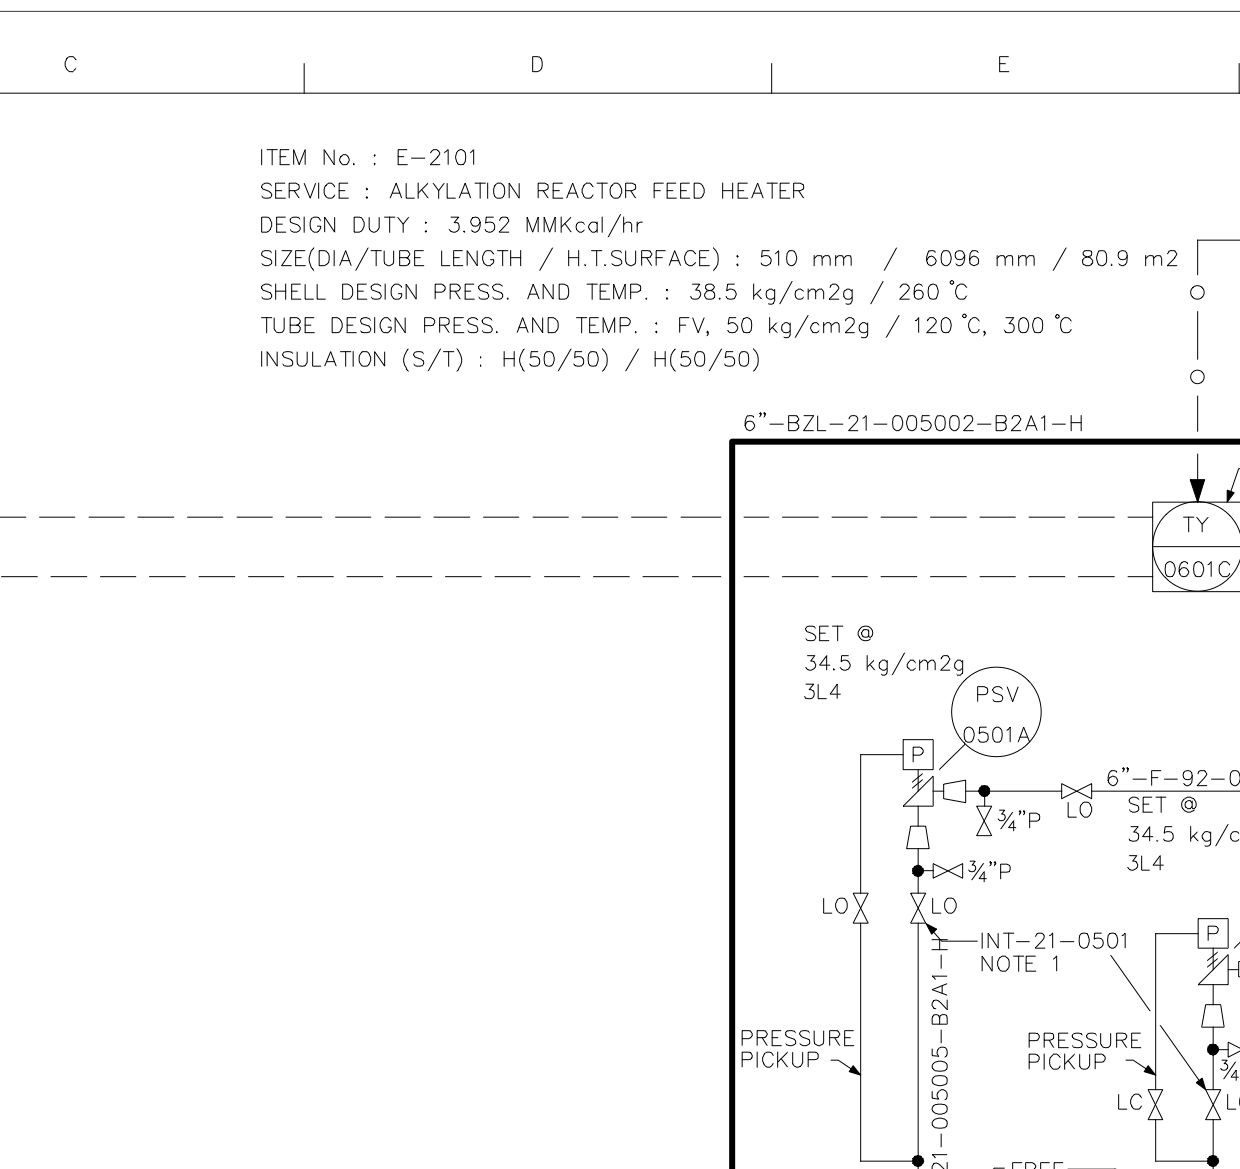Line Number: (742, 407, 1090, 434)
PSV: (901, 773, 938, 812), (1196, 951, 1233, 990)
